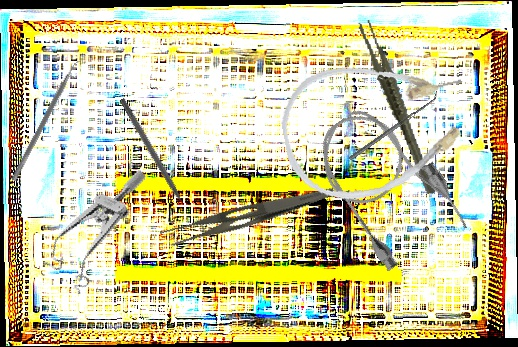Cannula: (273, 45, 480, 211), (301, 90, 475, 280)
Dressing Forceps: (158, 168, 336, 257)
Hook Surgical: (117, 97, 192, 217)
Spatula Surgical: (10, 57, 84, 185), (346, 90, 442, 161)
Speculum: (37, 149, 148, 301)
Tissue Forceps: (357, 13, 437, 201)
